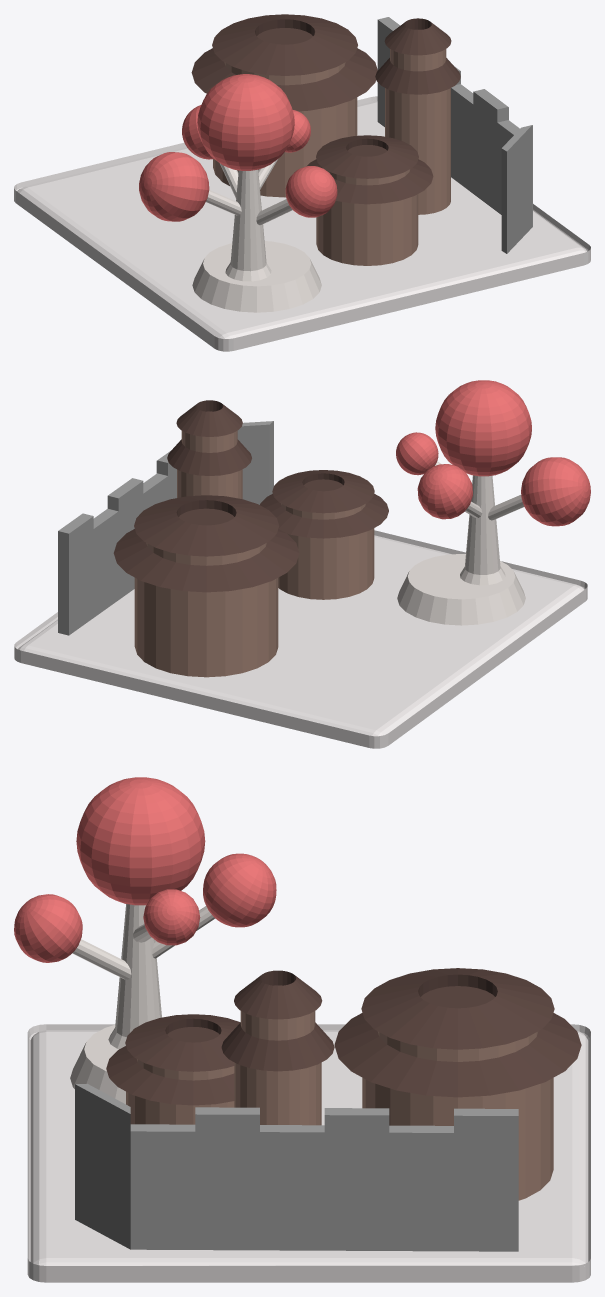
3 views of the same model, one above another, from view 1: azimuth 30°, elevation 25°; view 2: azimuth 150°, elevation 25°; view 3: azimuth 270°, elevation 25° (orthographic). The views are drawn at different scales.
Visible parts, largest first — view 1: Plane, Circle003, Plane002, Circle008, Circle009, Circle015, Circle012, Circle, Circle010, Circle004, Circle016, Circle017 (+5 smaller); view 2: Plane, Circle, Plane002, Circle003, Circle008, Circle009, Circle010, Circle015, Circle004, Circle016, Circle017, Circle005 (+4 smaller); view 3: Plane002, Plane, Circle008, Circle009, Circle010, Circle, Circle003, Circle012, Circle016, Circle005, Circle007, Circle017 (+4 smaller).
Boxes of the visible parts, x1=… form: Plane: x1=14, y1=96, x2=590, y2=351; Circle003: x1=192, y1=159, x2=321, y2=312; Plane002: x1=377, y1=17, x2=532, y2=253; Circle008: x1=197, y1=74, x2=294, y2=170; Circle009: x1=212, y1=14, x2=357, y2=75; Circle015: x1=316, y1=169, x2=418, y2=265; Circle012: x1=385, y1=49, x2=450, y2=214; Circle: x1=213, y1=62, x2=357, y2=197; Circle010: x1=191, y1=48, x2=377, y2=111; Circle004: x1=139, y1=152, x2=209, y2=221; Circle016: x1=316, y1=135, x2=418, y2=178; Circle017: x1=307, y1=159, x2=433, y2=204; Plane: x1=14, y1=530, x2=587, y2=748; Circle: x1=134, y1=543, x2=278, y2=677; Plane002: x1=58, y1=421, x2=273, y2=635; Circle003: x1=397, y1=461, x2=525, y2=625; Circle008: x1=435, y1=380, x2=531, y2=476; Circle009: x1=134, y1=495, x2=278, y2=556; Circle010: x1=113, y1=529, x2=299, y2=592; Circle015: x1=278, y1=503, x2=374, y2=599; Circle004: x1=521, y1=457, x2=590, y2=526; Circle016: x1=272, y1=470, x2=374, y2=513; Circle017: x1=260, y1=493, x2=388, y2=538; Circle005: x1=417, y1=464, x2=472, y2=519; Plane002: x1=75, y1=1083, x2=518, y2=1251; Plane: x1=27, y1=1024, x2=590, y2=1282; Circle008: x1=76, y1=777, x2=205, y2=905; Circle009: x1=361, y1=968, x2=554, y2=1049; Circle010: x1=334, y1=1013, x2=581, y2=1097; Circle: x1=362, y1=1031, x2=553, y2=1200; Circle003: x1=70, y1=904, x2=214, y2=1104; Circle012: x1=234, y1=1011, x2=321, y2=1125; Circle016: x1=125, y1=1014, x2=240, y2=1071; Circle005: x1=203, y1=853, x2=276, y2=927; Circle007: x1=14, y1=894, x2=82, y2=962; Circle017: x1=106, y1=1046, x2=234, y2=1105.
Size of the model in its own units: 43.33 by 23.01 by 39.91.
